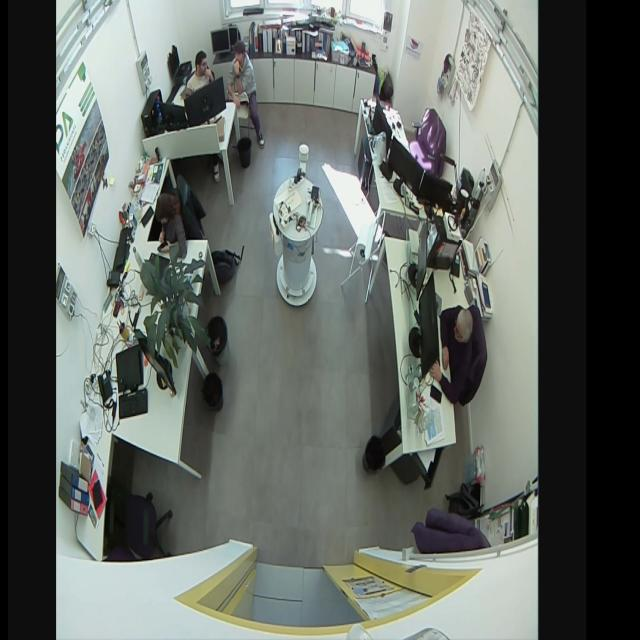Persona: (432, 303, 478, 405), (227, 42, 265, 149), (151, 192, 187, 262), (183, 50, 215, 98)
